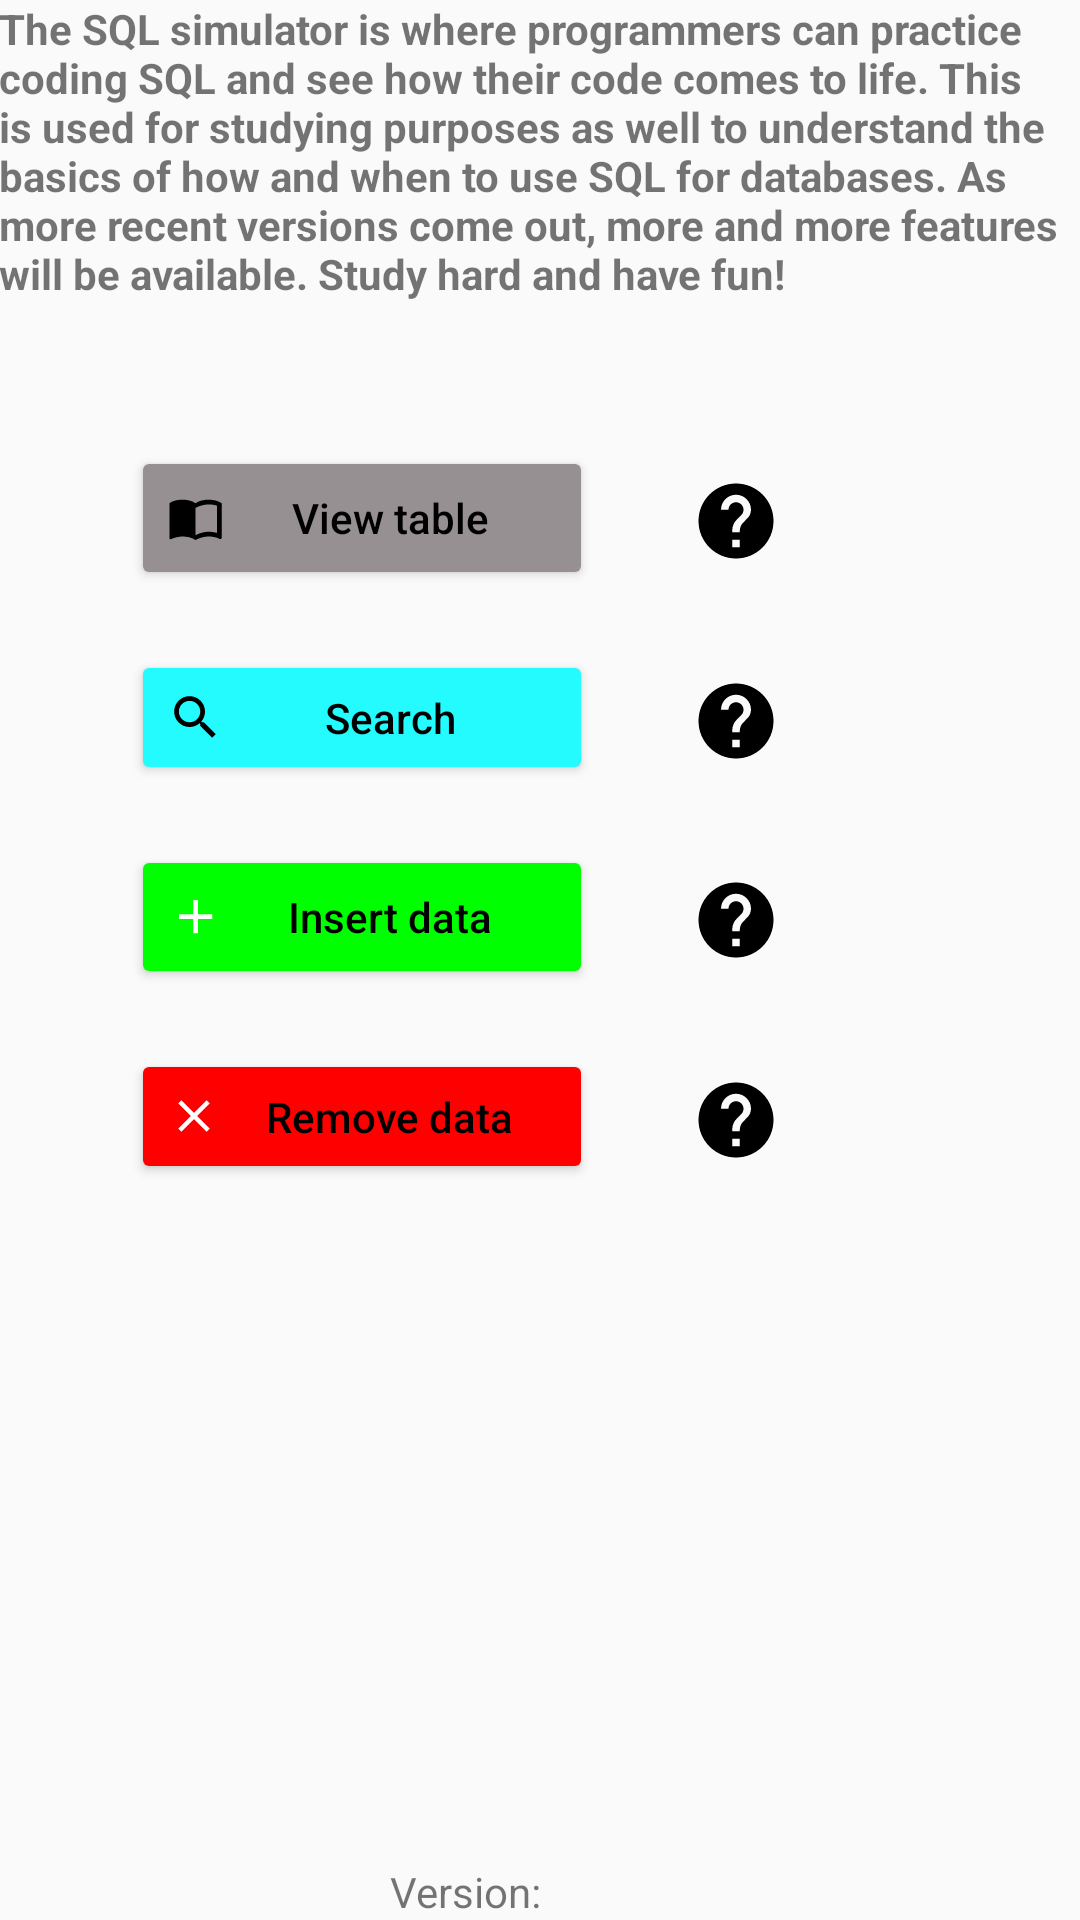

Icons on this 1080px×1920px Android screen, each with its box as region(x1, y1, x2, y2):
help: region(698, 483, 774, 559), region(698, 683, 774, 759), region(698, 882, 774, 958), region(698, 1082, 774, 1158)
